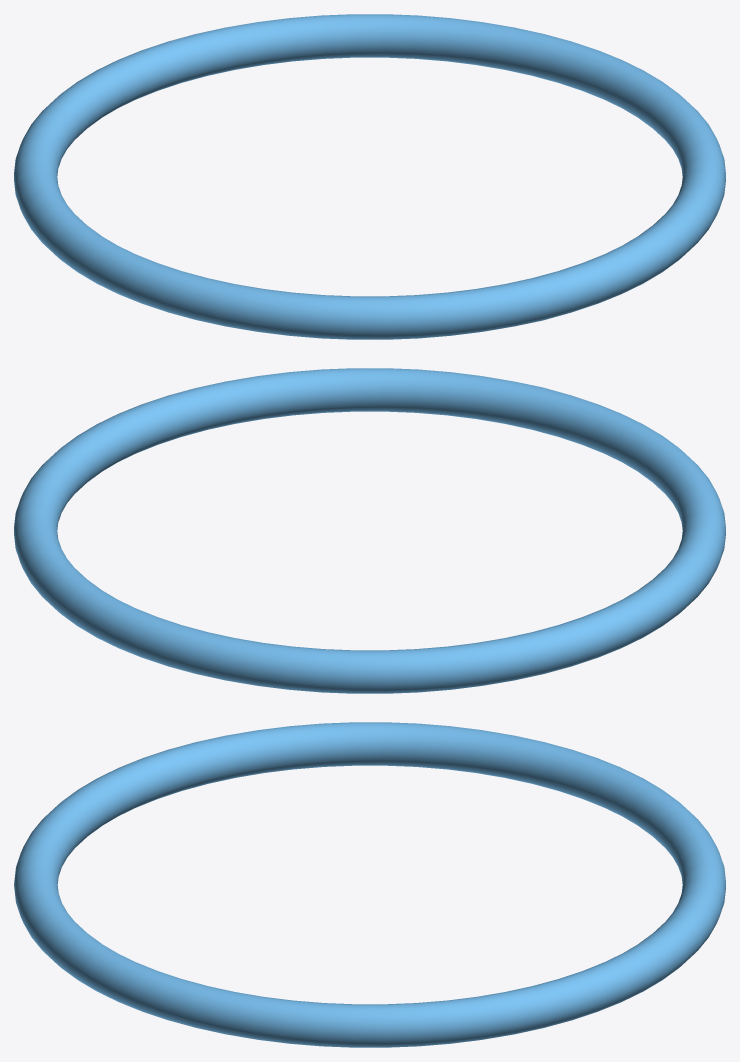
File: ring.fbx
The picture shows the model from 3 angles, top to bottom: view 1: azimuth 30°, elevation 25°; view 2: azimuth 150°, elevation 25°; view 3: azimuth 270°, elevation 25°; orthographic projection.
Parts seen in each view (by area): view 1: ##-RING; view 2: ##-RING; view 3: ##-RING.
Part boxes in pixels (x1=…): ##-RING: x1=14, y1=14, x2=725, y2=339; ##-RING: x1=14, y1=368, x2=725, y2=693; ##-RING: x1=14, y1=722, x2=725, y2=1047.
Size of the model in its own units: 2275 by 139 by 2279.
